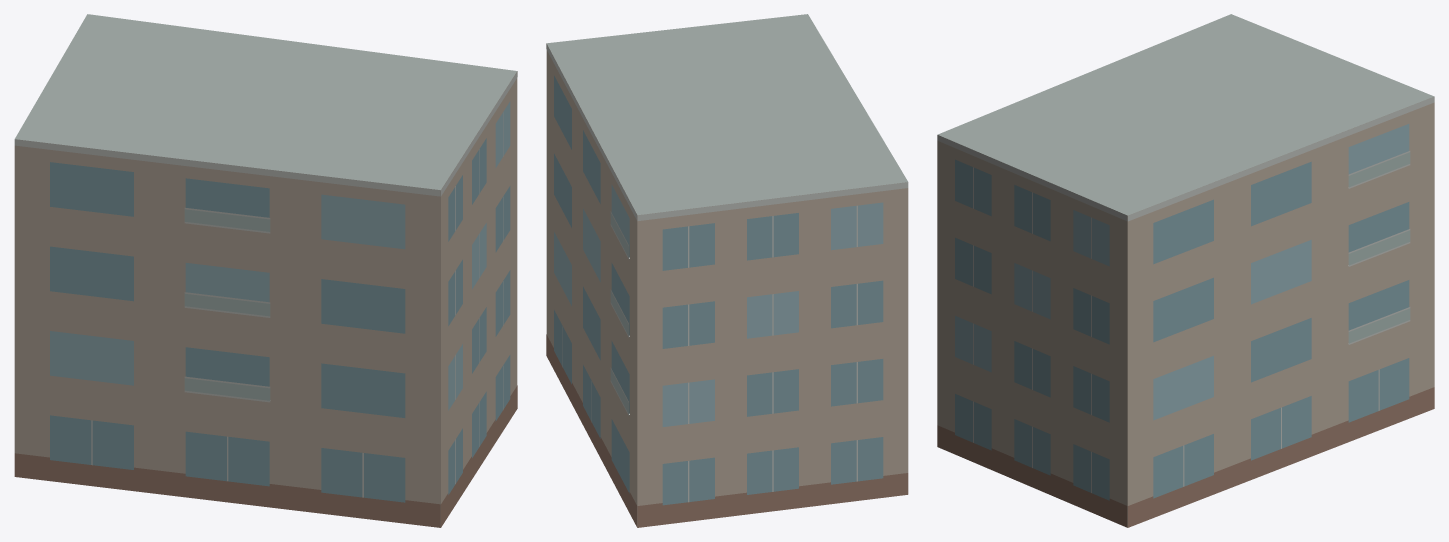
The model's file is survey-upis-33017941.glb.
3 views of the same model, side by side, from view 1: azimuth 30°, elevation 25°; view 2: azimuth 150°, elevation 25°; view 3: azimuth 270°, elevation 25° (orthographic). The views are drawn at different scales.
Parts seen in each view (by area): view 1: survey-upis-33017941.tmp; view 2: survey-upis-33017941.tmp; view 3: survey-upis-33017941.tmp.
Boxes of the visible parts, x1,y1,x2,y2 form: survey-upis-33017941.tmp: (14, 14, 517, 527); survey-upis-33017941.tmp: (546, 14, 908, 527); survey-upis-33017941.tmp: (937, 14, 1434, 527).
Size of the model in its own units: 17.73 by 12.8 by 18.48.
